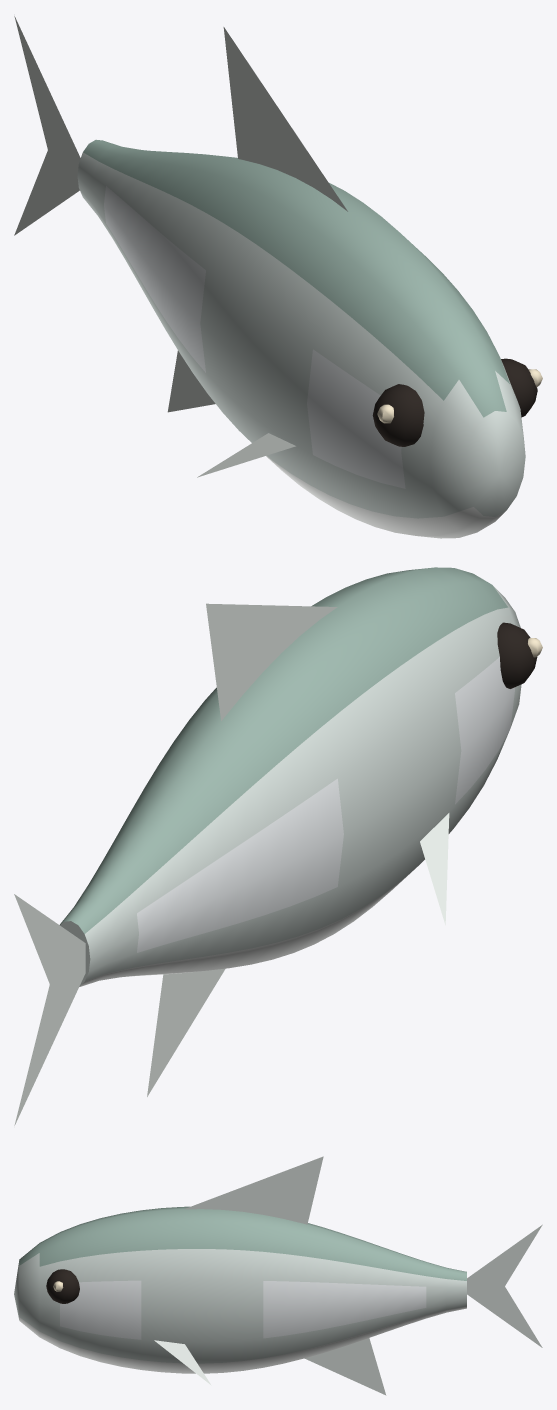
Rendered from sand_smelt.fbx.
The picture shows the model from 3 angles, top to bottom: view 1: azimuth 30°, elevation 25°; view 2: azimuth 150°, elevation 25°; view 3: azimuth 270°, elevation 25°; orthographic projection. The views are drawn at different scales.
Parts seen in each view (by area): view 1: Fish_sand_smelt_EXP; view 2: Fish_sand_smelt_EXP; view 3: Fish_sand_smelt_EXP.
Part boxes in pixels (x1=…): Fish_sand_smelt_EXP: x1=14, y1=16, x2=542, y2=538; Fish_sand_smelt_EXP: x1=14, y1=567, x2=542, y2=1125; Fish_sand_smelt_EXP: x1=14, y1=1156, x2=542, y2=1395.
Size of the model in its own units: 0.0736 by 0.118 by 0.2364.
